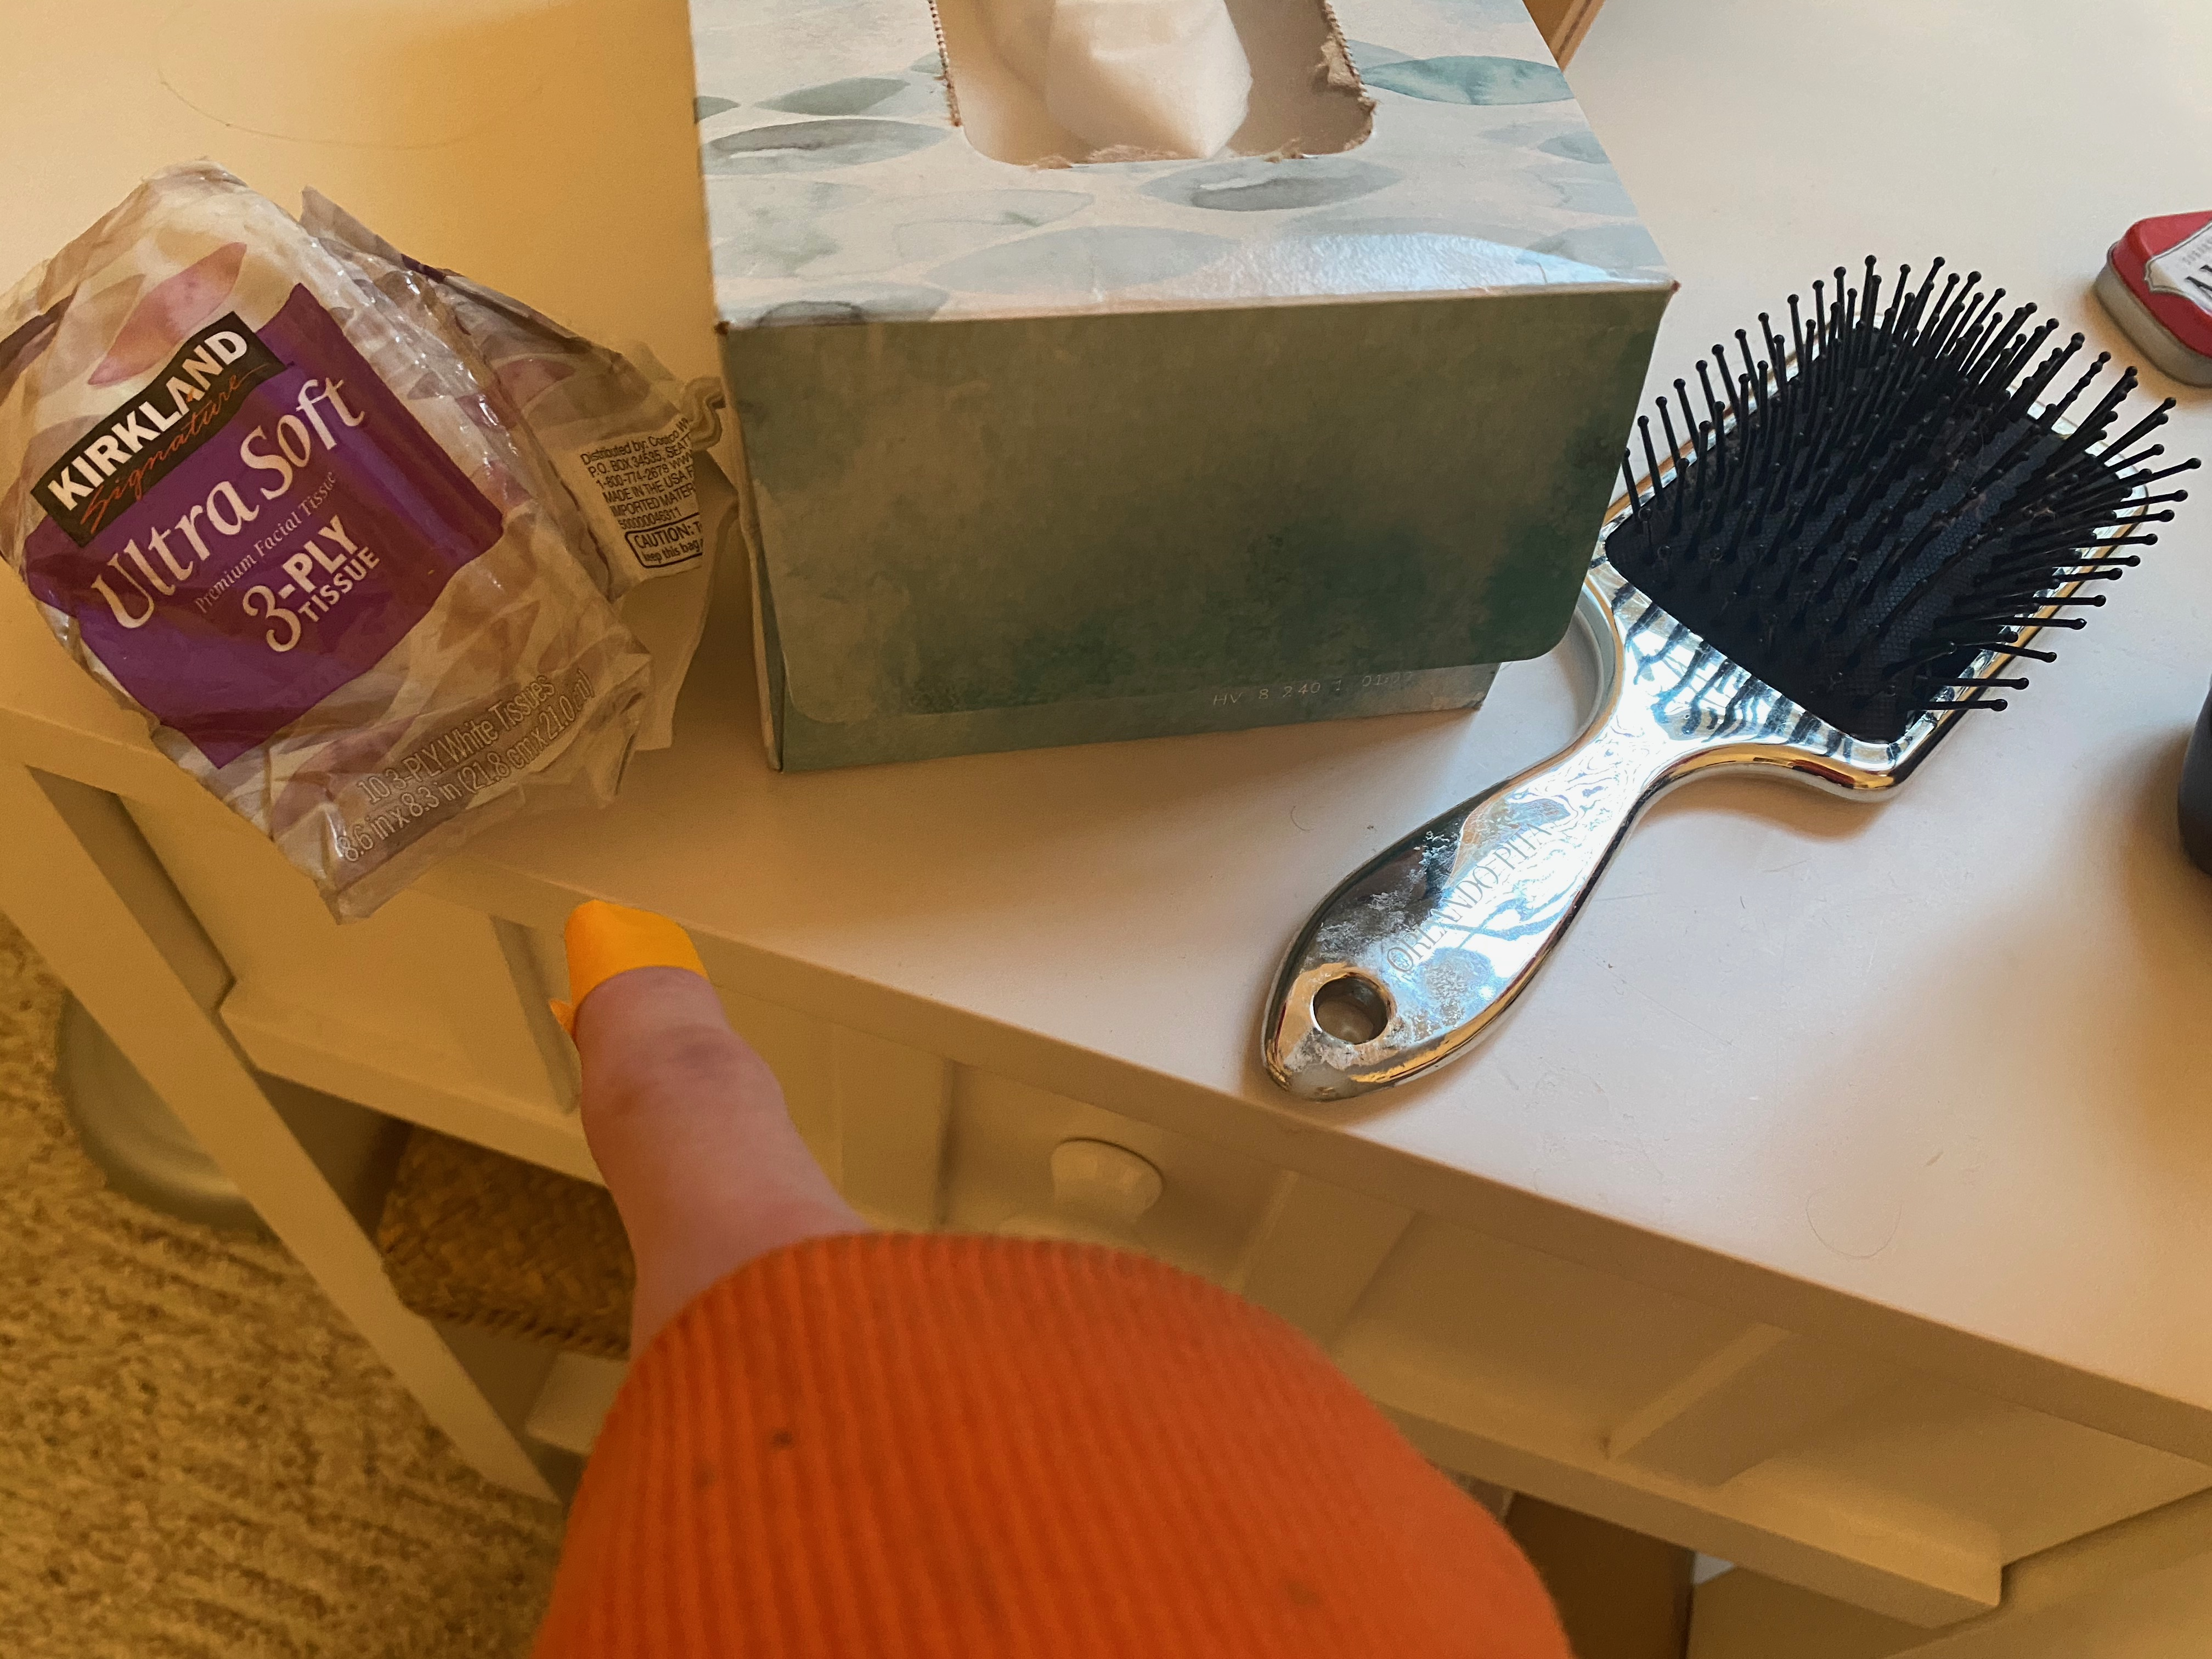fingertip: (482, 826, 822, 1082)
